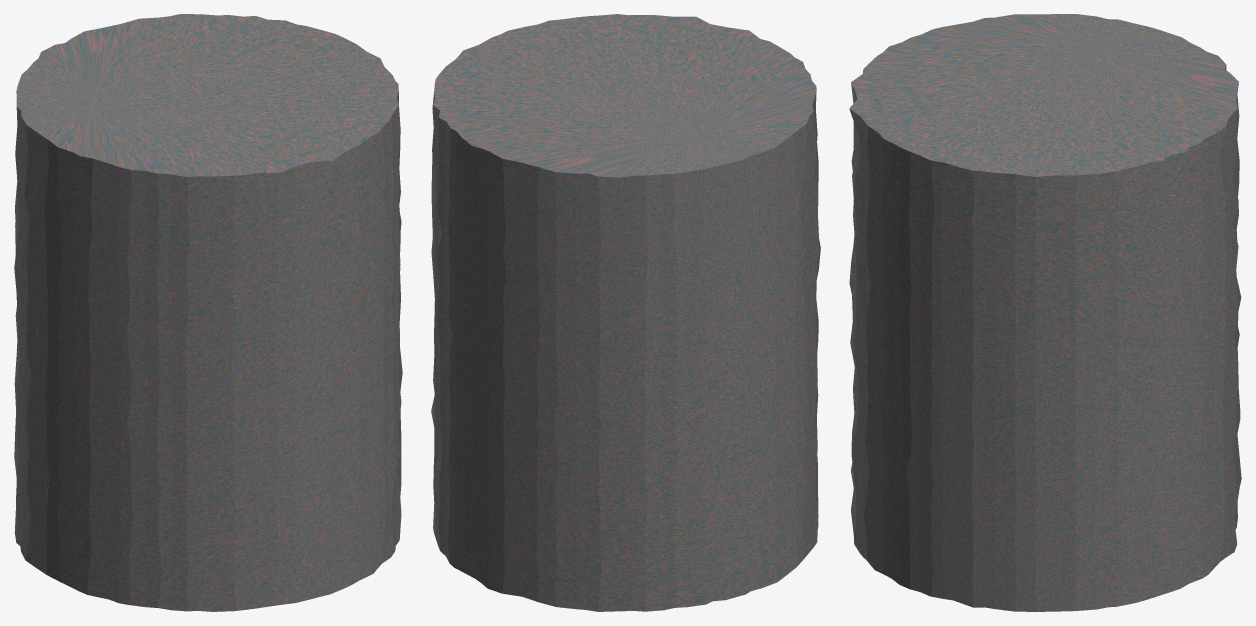
The model's file is barrel_66.dae.
3 views of the same model, side by side, from view 1: azimuth 30°, elevation 25°; view 2: azimuth 150°, elevation 25°; view 3: azimuth 270°, elevation 25° (orthographic).
Parts seen in each view (by area): view 1: Cylinder; view 2: Cylinder; view 3: Cylinder.
Boxes of the visible parts, x1=… form: Cylinder: x1=14, y1=14, x2=402, y2=611; Cylinder: x1=431, y1=14, x2=820, y2=611; Cylinder: x1=849, y1=14, x2=1241, y2=611.
Bounding box in the file's own units: 0.814 × 0.8161 × 1.
Materials: 1 (1 with a texture image).
